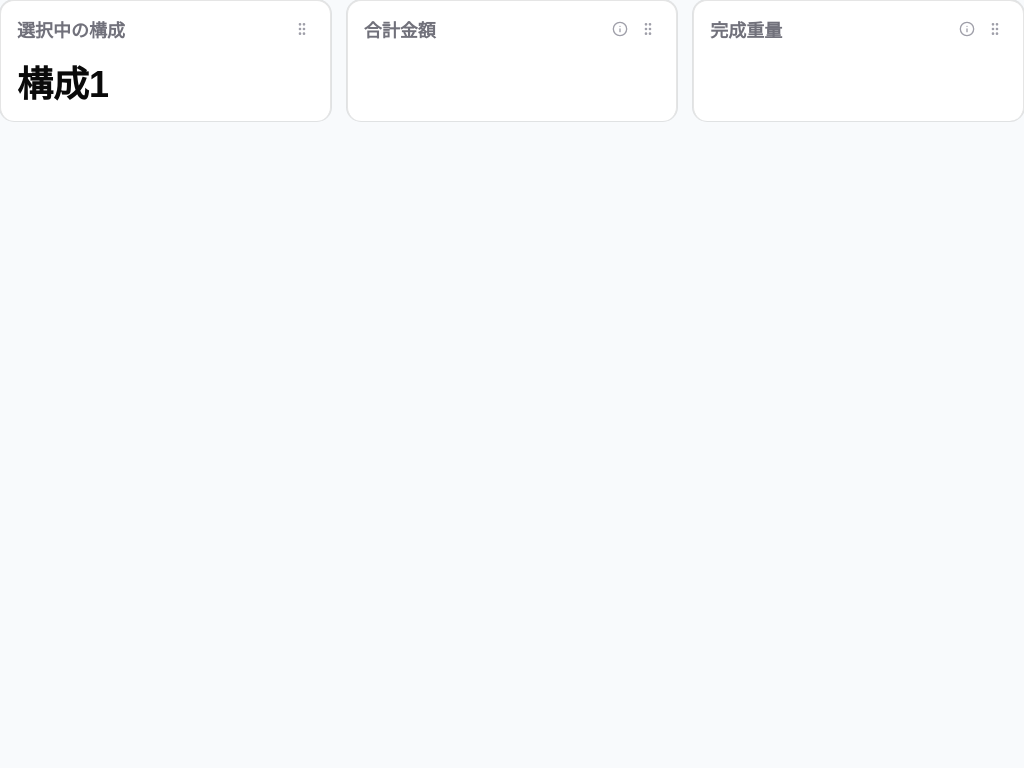
Test: SummaryCards › ⓘから合計の内訳を開く
Step 1. Click the button named "合計金額の内訳を表示" → (620, 29), box [608, 17, 632, 41]
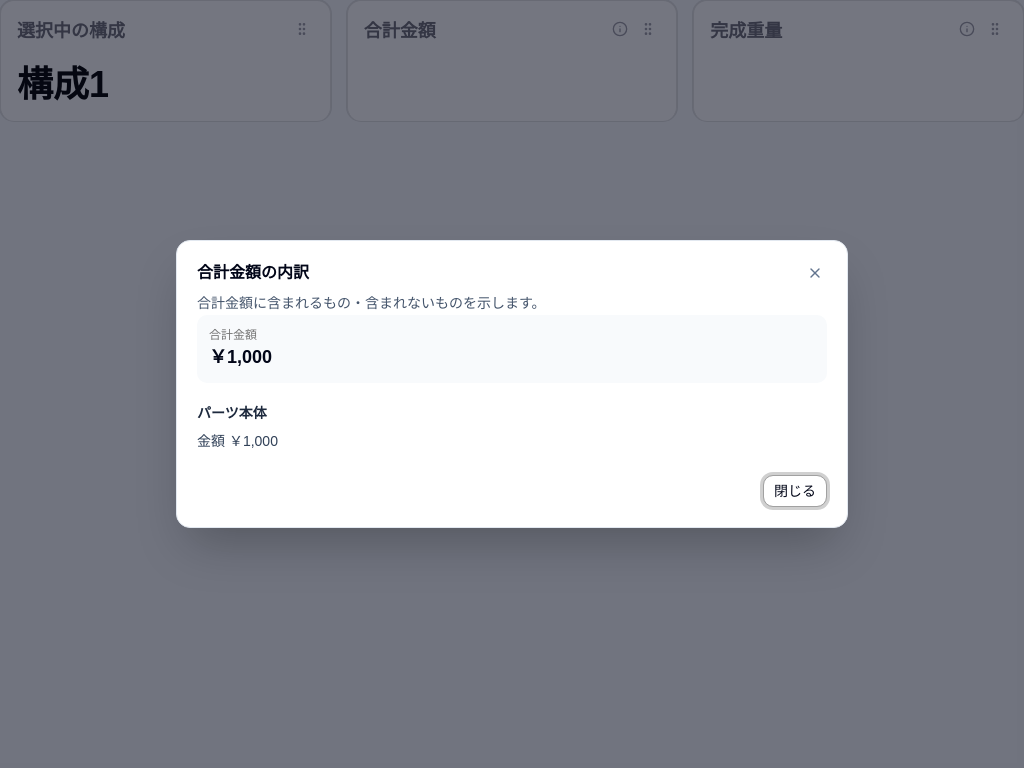
Expected: the heading "合計金額の内訳" is shown, [197, 264, 309, 281]
Expected: the heading "パーツ本体" is shown, [197, 405, 267, 421]
